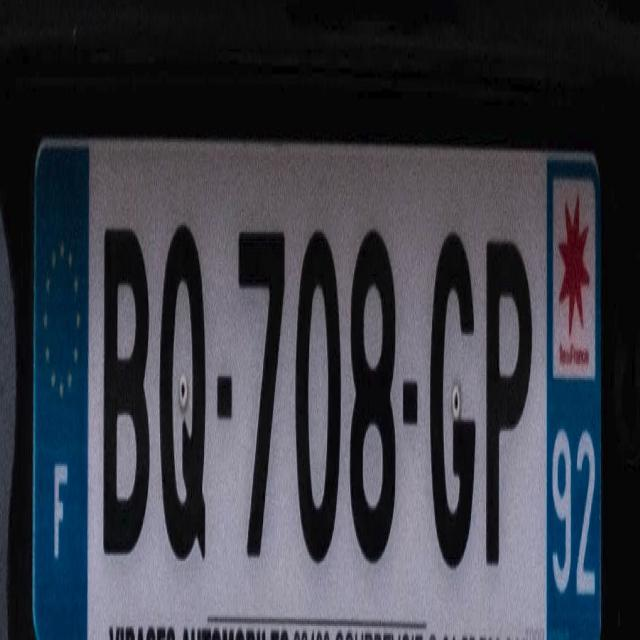EU: (35, 142, 607, 640)
France: (36, 138, 88, 640)
